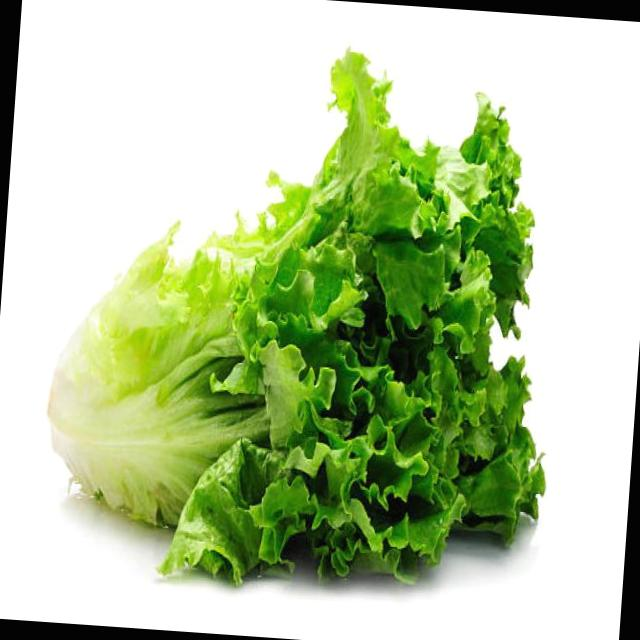Lettuce-Ready-to-Harvest: (48, 52, 544, 582)
